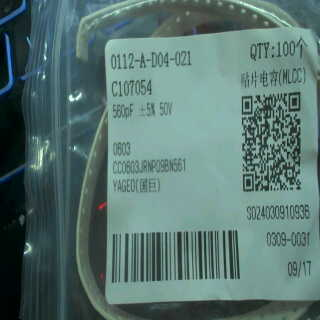560pF: (110, 101, 134, 124)
